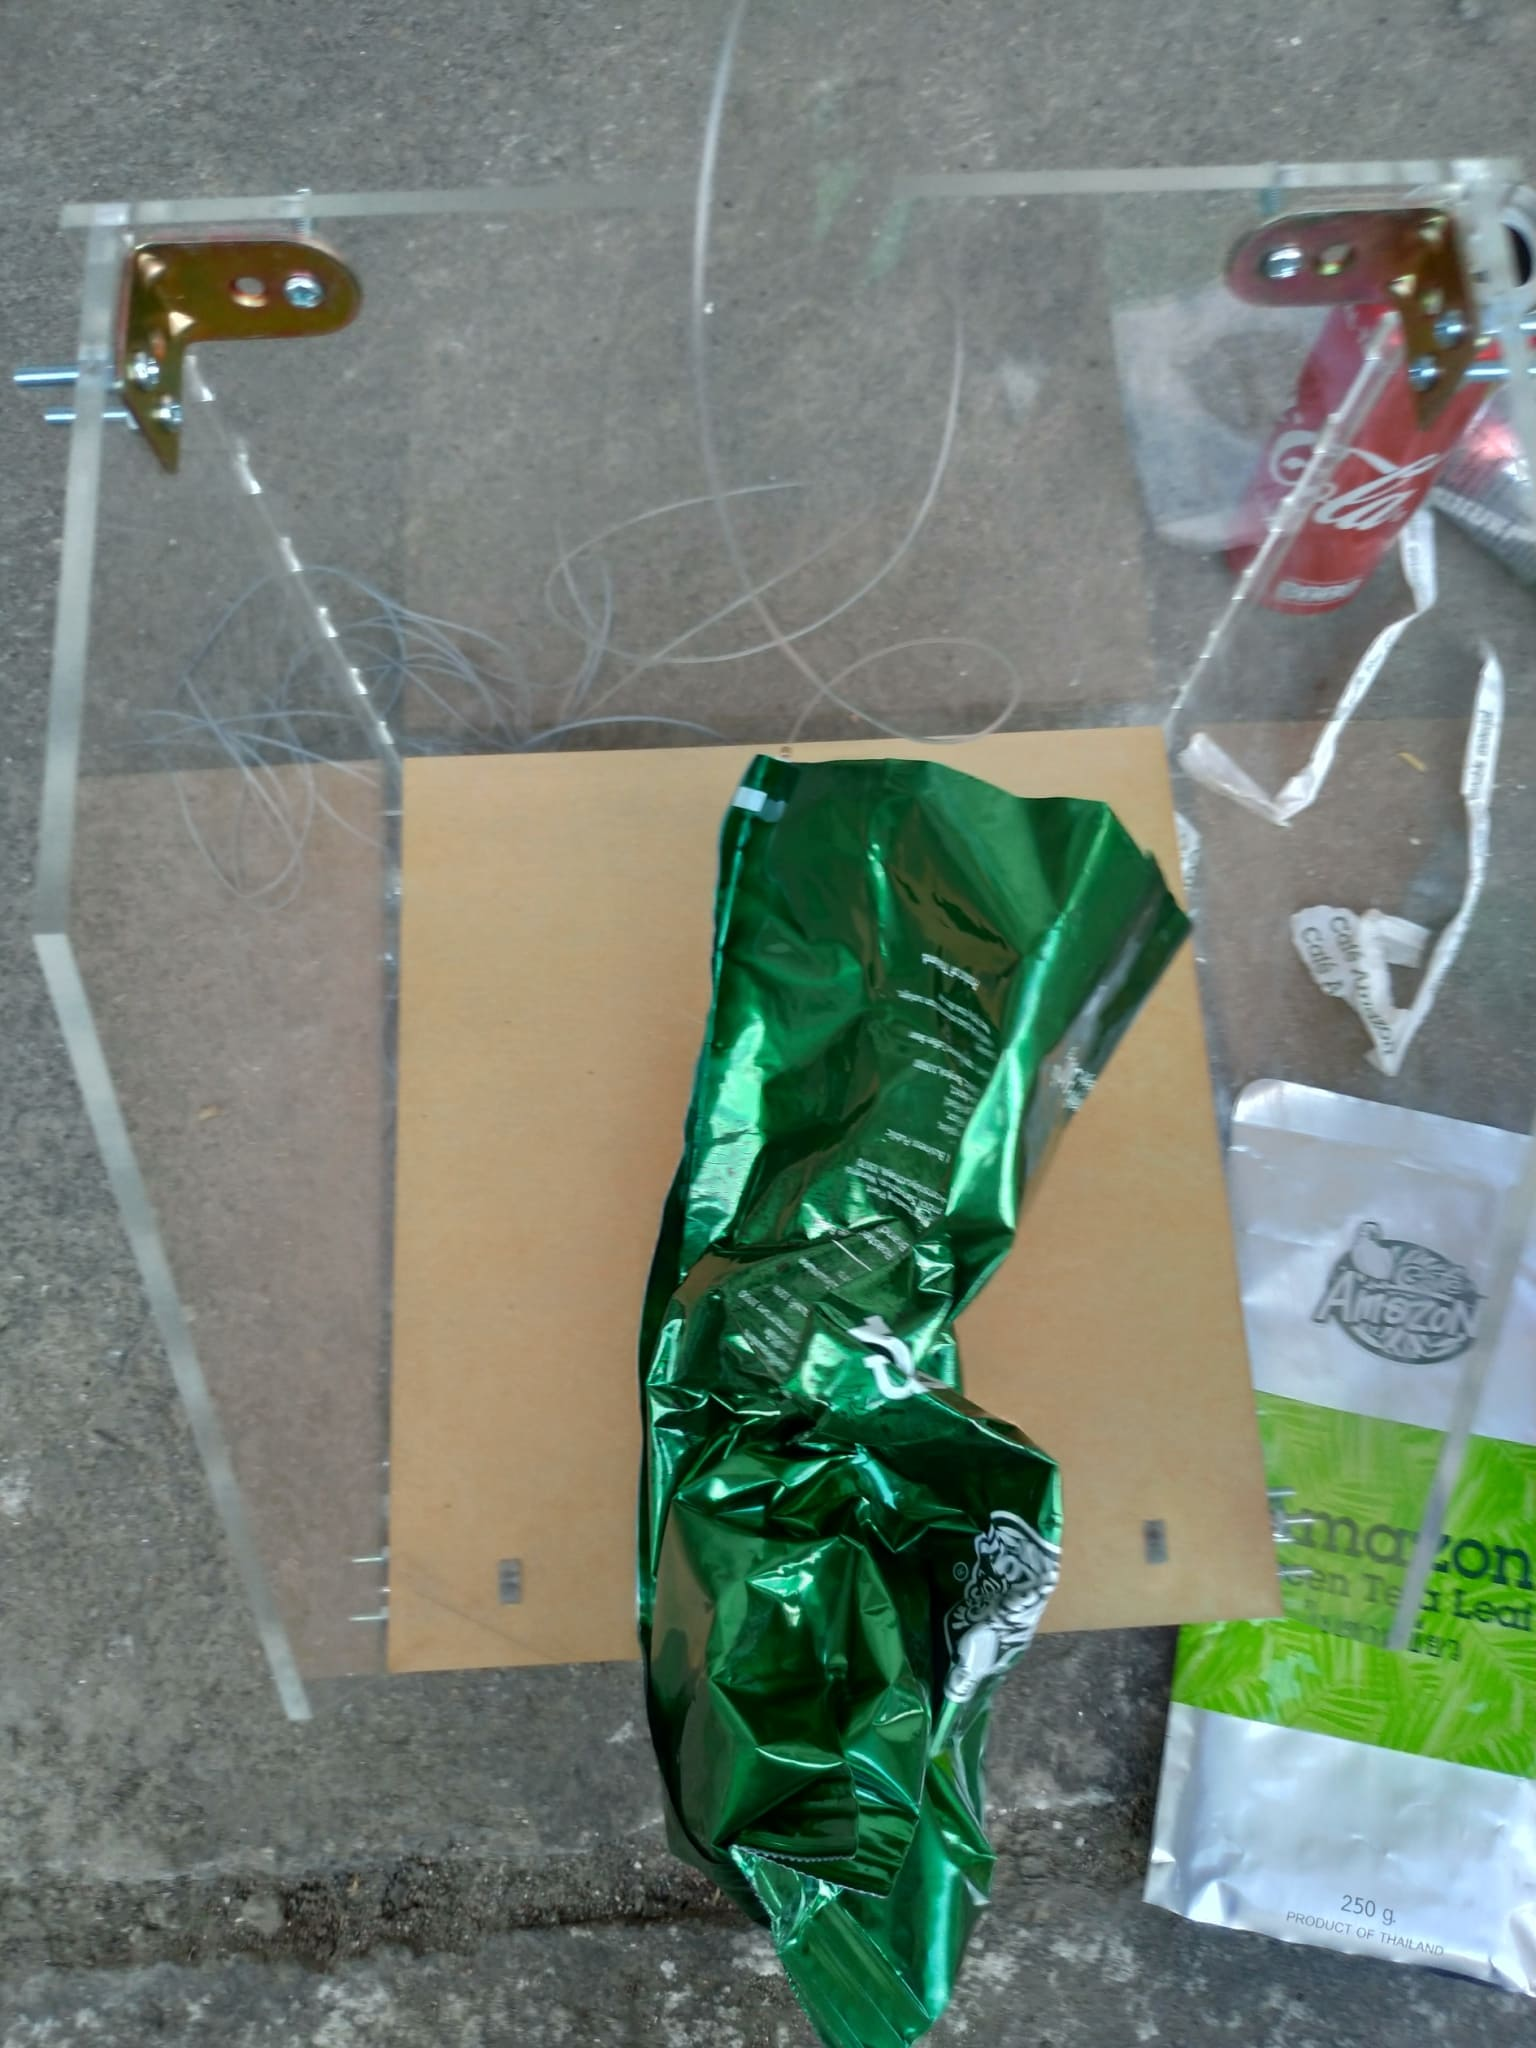AlCan: (1213, 185, 1534, 608)
Others: (637, 748, 1194, 2038), (1147, 1084, 1536, 1983), (1283, 635, 1501, 1077), (1184, 495, 1438, 819)
